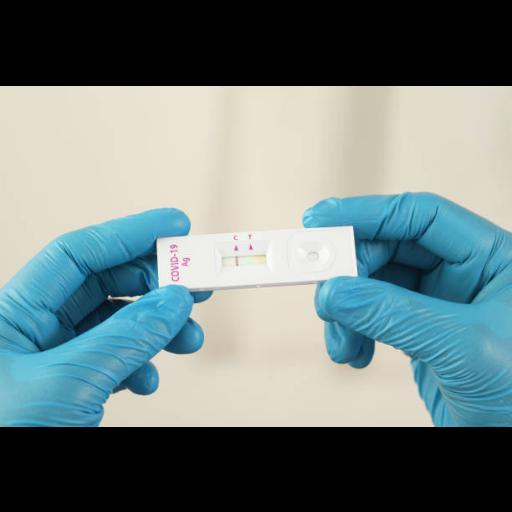Neg: (157, 224, 358, 291)
